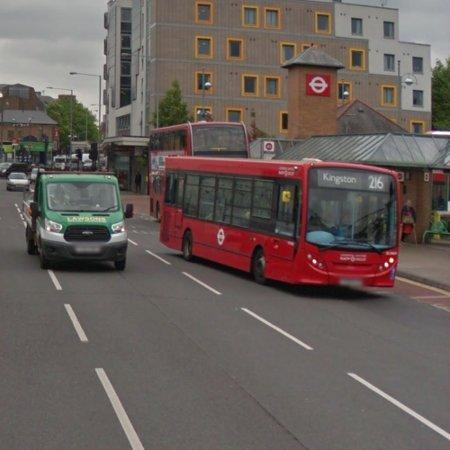buses: (160, 158, 401, 288), (148, 122, 250, 220)
